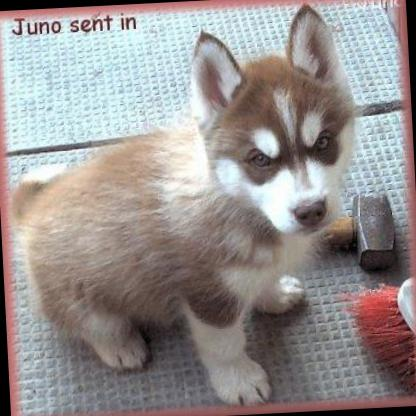Siberian_husky: (0, 0, 371, 416)
